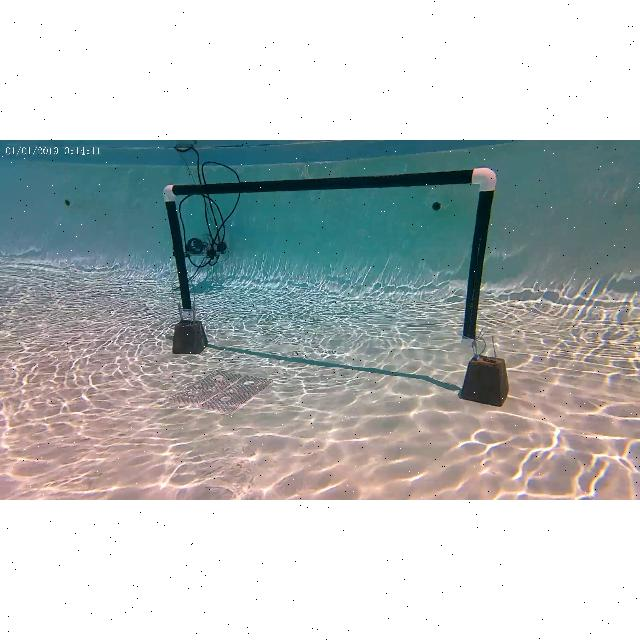prequal gate: (167, 169, 495, 345)
prequal gate leg l: (162, 184, 210, 356)
prequal gate leg r: (460, 166, 510, 410)
